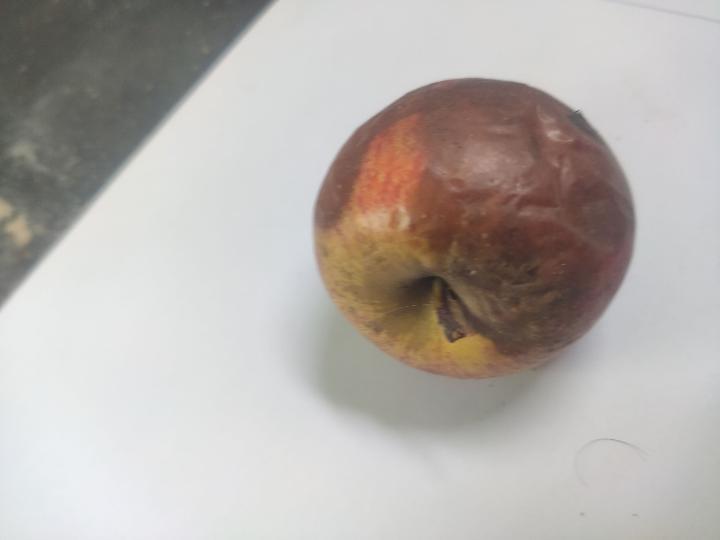apple: (314, 78, 635, 378)
rot_mold_decay: (315, 79, 634, 354)
